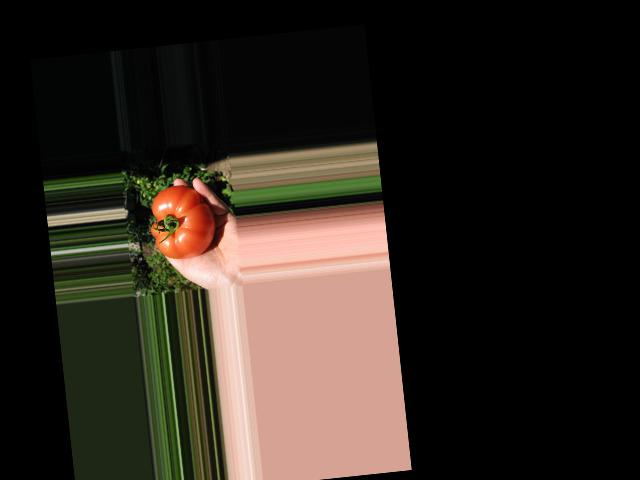tomato: (147, 181, 217, 261)
